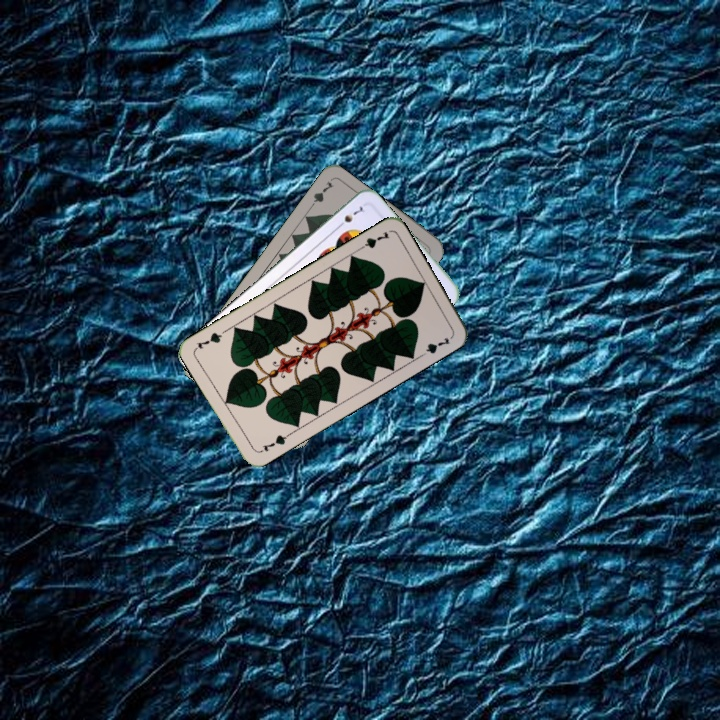G7: (305, 177, 337, 212), (354, 227, 392, 254), (255, 430, 292, 456)
S7: (333, 203, 365, 231)
